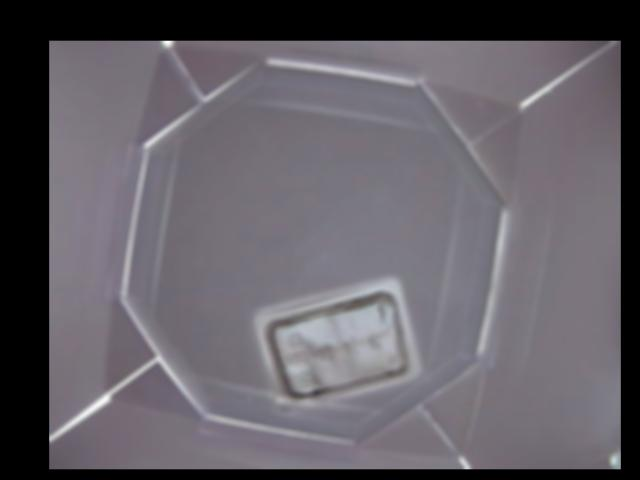Medicine: (252, 276, 417, 411)
